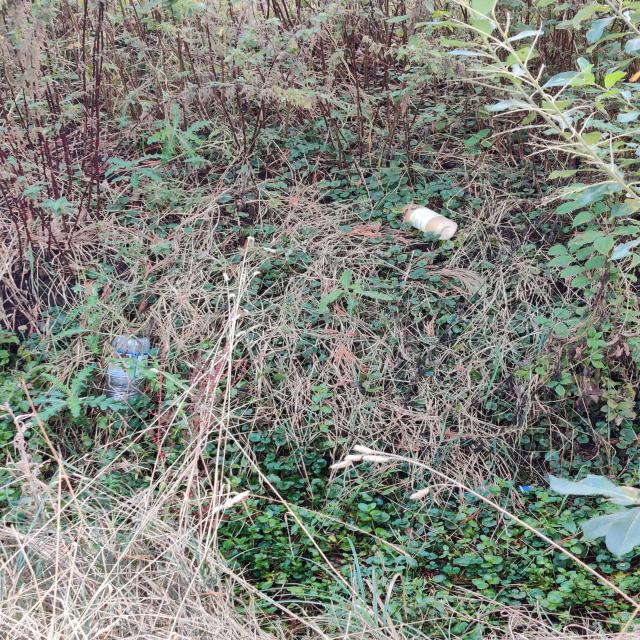litter: (103, 332, 150, 412)
